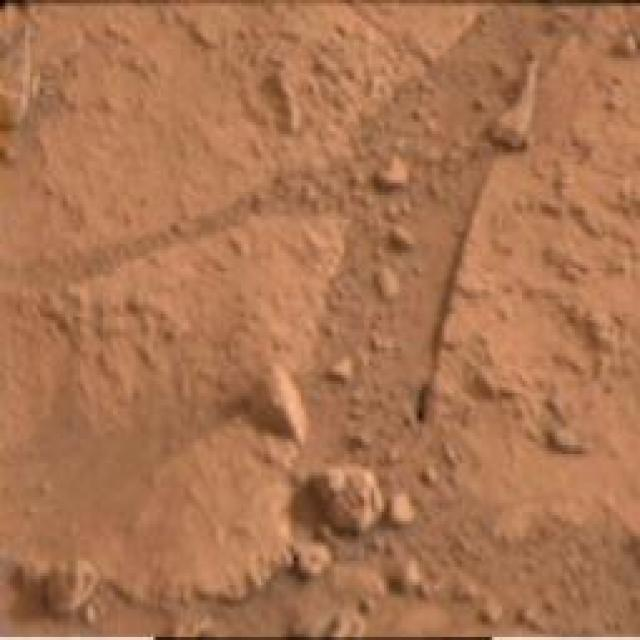rock: (310, 462, 382, 532), (0, 0, 36, 133), (251, 366, 305, 438), (497, 60, 540, 150), (40, 562, 99, 614), (266, 65, 306, 136), (474, 362, 526, 403), (378, 158, 412, 190), (372, 268, 402, 304), (388, 220, 424, 250), (396, 561, 424, 597), (298, 544, 328, 572), (328, 356, 359, 383), (11, 558, 33, 592), (393, 493, 416, 525)
